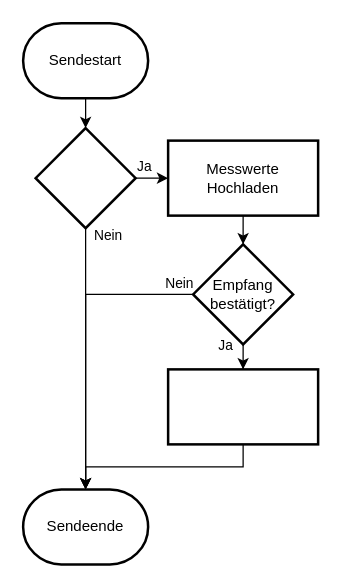
Image size: 340x586. Some labels were removed from this diagram. Each missing label, with the box of its shape:
GSM Verbindung ?: (34, 126, 136, 229)
Hochgeladene Messwerte Löschen: (166, 368, 319, 445)
